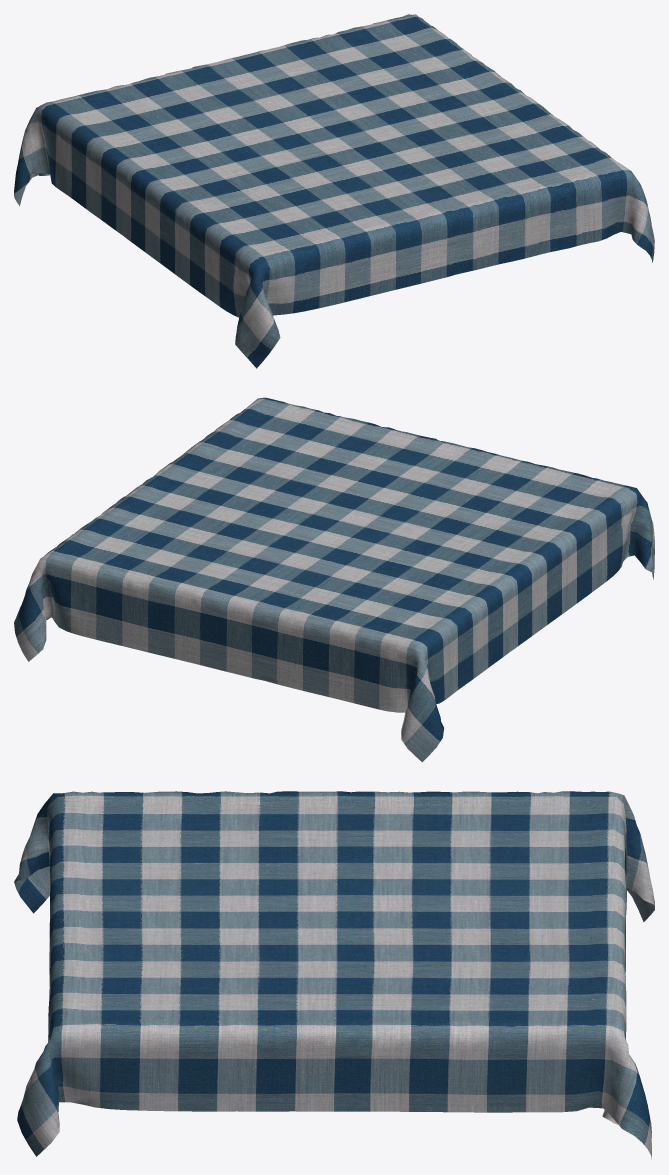
File: table2_tablecloth_final.obj
The picture shows the model from 3 angles, top to bottom: view 1: azimuth 30°, elevation 25°; view 2: azimuth 150°, elevation 25°; view 3: azimuth 270°, elevation 25°; orthographic projection. The views are drawn at different scales.
Bounding box in the file's own units: 1.12 × 0.273 × 1.13.
1 material, 1 textured.
